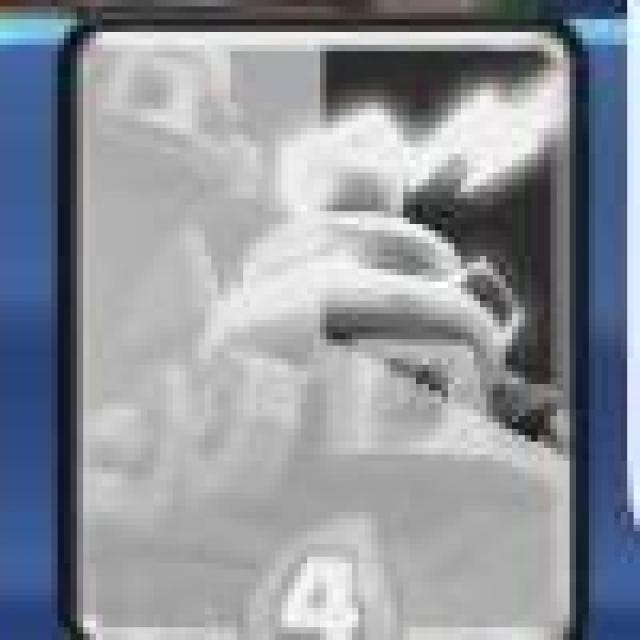Zappies: (61, 17, 576, 640)
